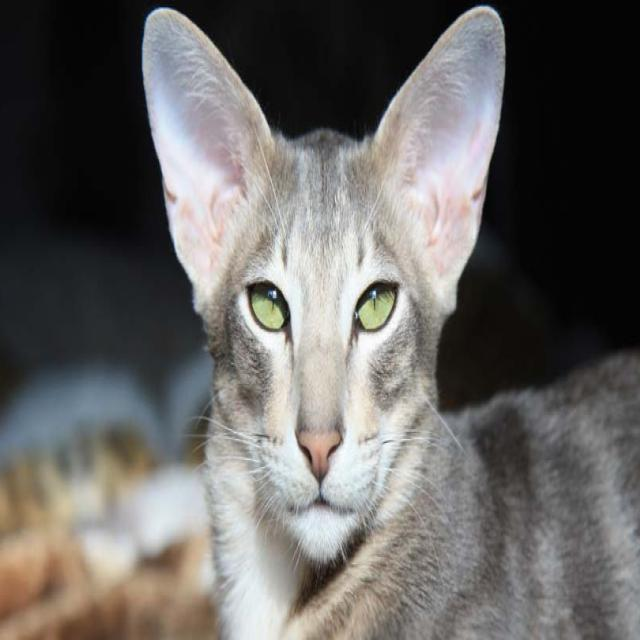Oriental: (138, 0, 640, 640)
